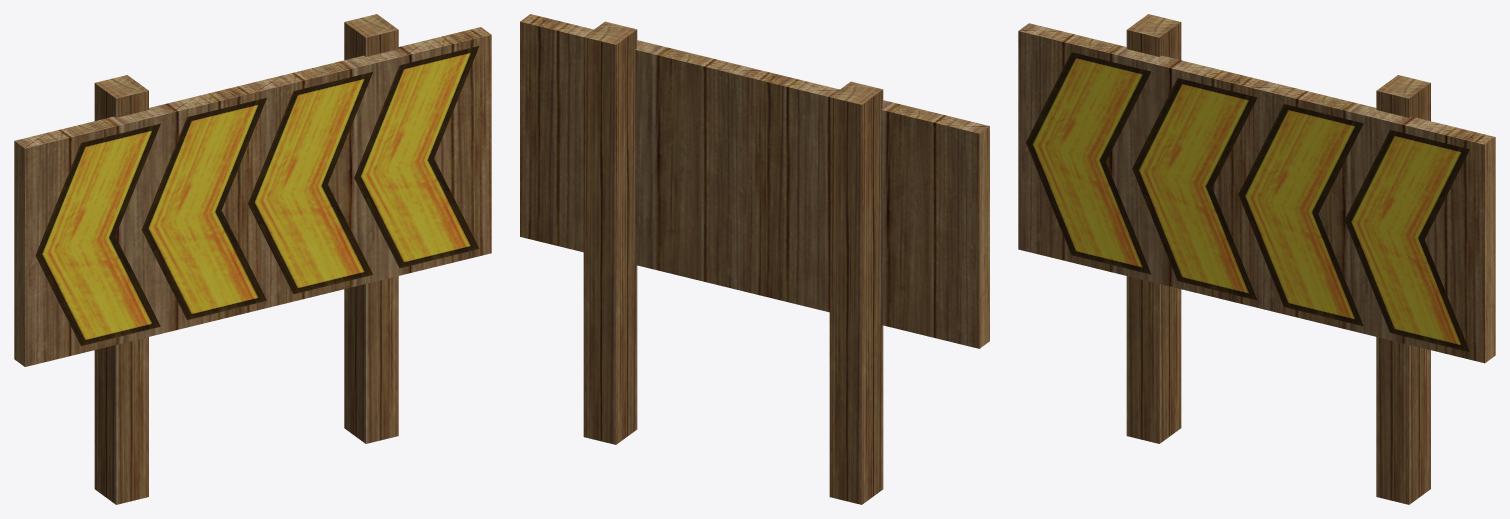
The model's file is DirectionSignsL.FBX.
The picture shows the model from 3 angles, left to right: view 1: azimuth 30°, elevation 25°; view 2: azimuth 150°, elevation 25°; view 3: azimuth 330°, elevation 25°; orthographic projection.
Visible parts, largest first — view 1: DirectionSignsL; view 2: DirectionSignsL; view 3: DirectionSignsL.
Boxes of the visible parts, x1,y1,x2,y2 form: DirectionSignsL: (14,14,491,504); DirectionSignsL: (520,14,989,504); DirectionSignsL: (1018,14,1495,504).
Bounding box in the file's own units: 224 × 186 × 26.27.
